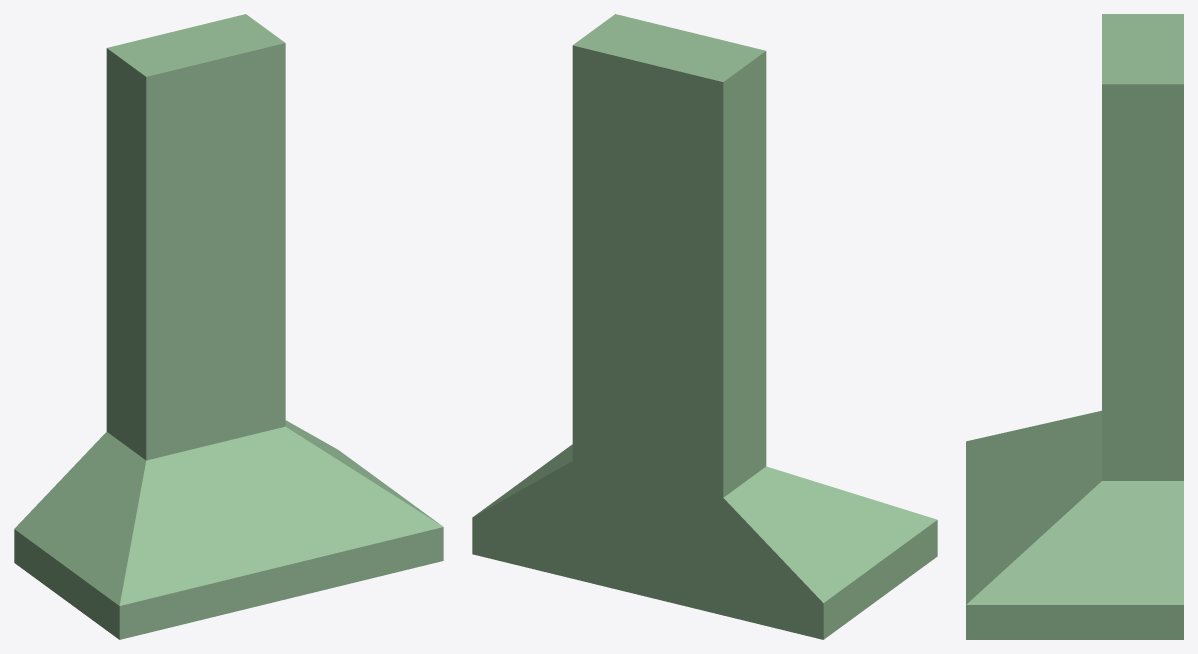
File: Extractor.fbx
The picture shows the model from 3 angles, left to right: view 1: azimuth 30°, elevation 25°; view 2: azimuth 150°, elevation 25°; view 3: azimuth 270°, elevation 25°; orthographic projection. The views are drawn at different scales.
Visible parts, largest first — view 1: Cube; view 2: Cube; view 3: Cube.
Boxes of the visible parts, x1,y1,x2,y2 form: Cube: (14,14,443,639); Cube: (472,14,937,639); Cube: (966,14,1183,639).
Size of the model in its own units: 200 by 290 by 113.
